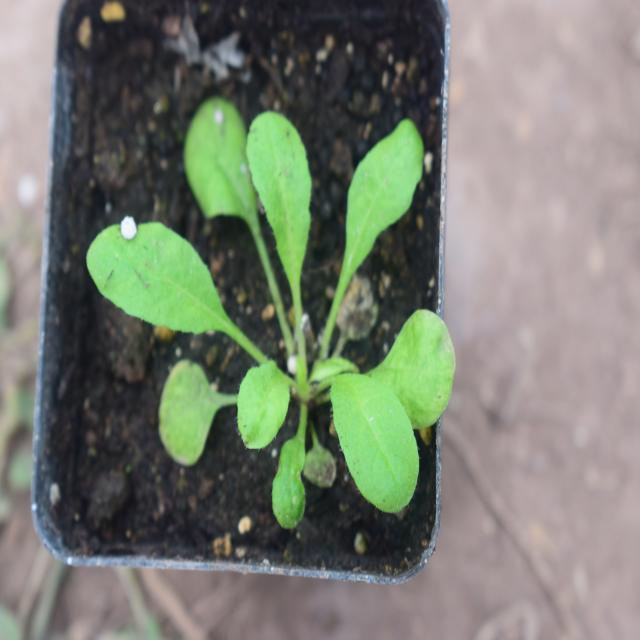Shepherd_Purse: (113, 118, 454, 516)
